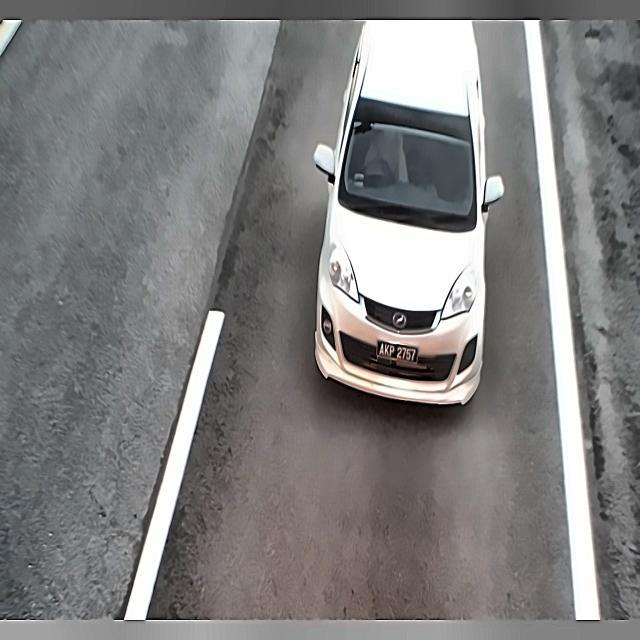car: (373, 334, 429, 372)
